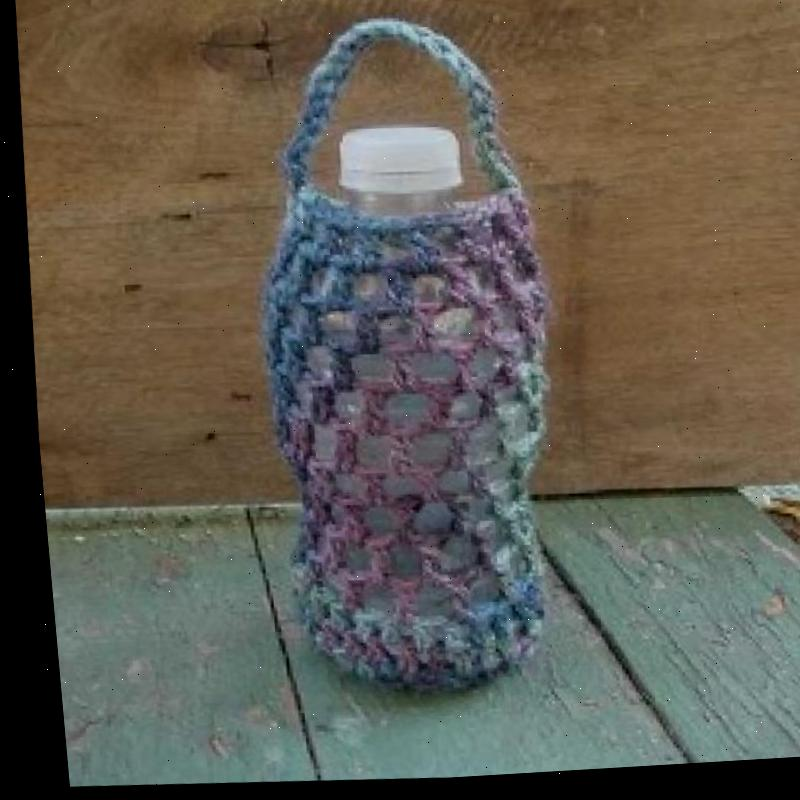botella: (321, 122, 469, 222)
